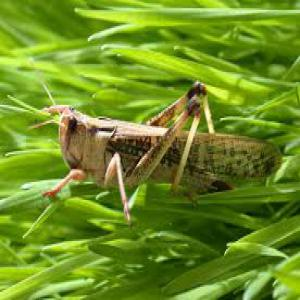locust: (30, 75, 282, 230)
